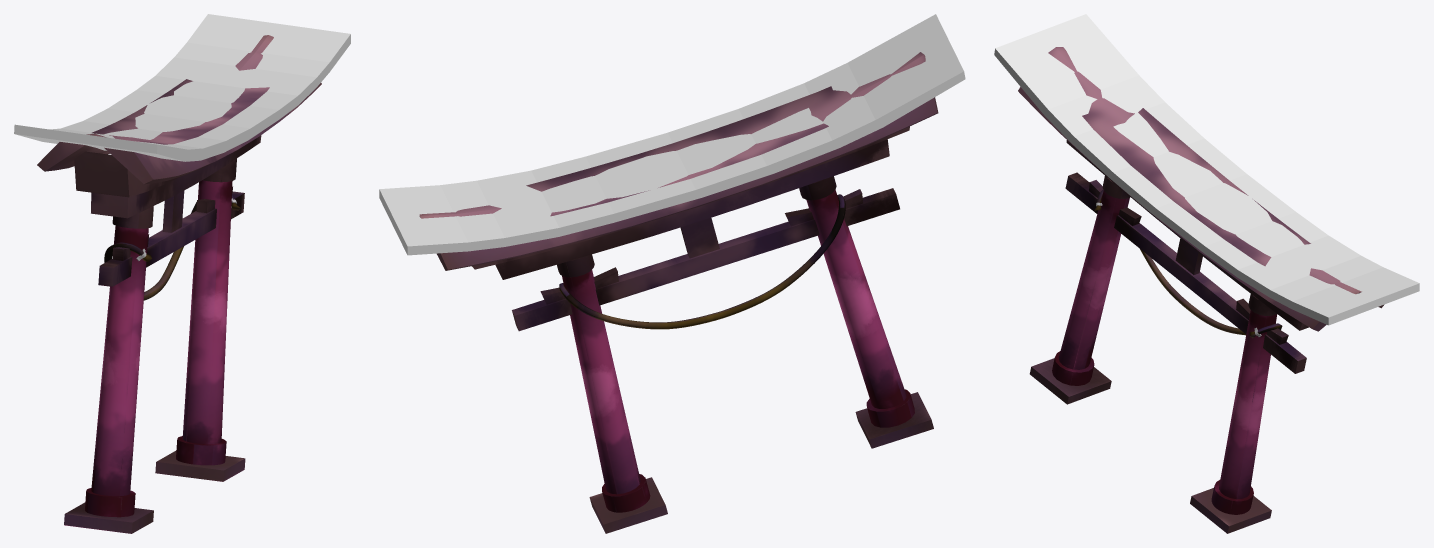
3 views of the same model, side by side, from view 1: azimuth 30°, elevation 25°; view 2: azimuth 150°, elevation 25°; view 3: azimuth 270°, elevation 25° (orthographic). The views are drawn at different scales.
Visible parts, largest first — view 1: toriiChris2, Cube; view 2: toriiChris2, Cube; view 3: Cube, toriiChris2.
Part boxes in pixels (box(x1,y1,x2,y2)): toriiChris2: box(37, 35, 321, 533); Cube: box(14, 14, 350, 161); toriiChris2: box(419, 52, 938, 533); Cube: box(379, 14, 965, 255); Cube: box(994, 14, 1419, 325); toriiChris2: box(1018, 47, 1384, 533).
Bounding box in the file's own units: 1003 × 959 × 936.
